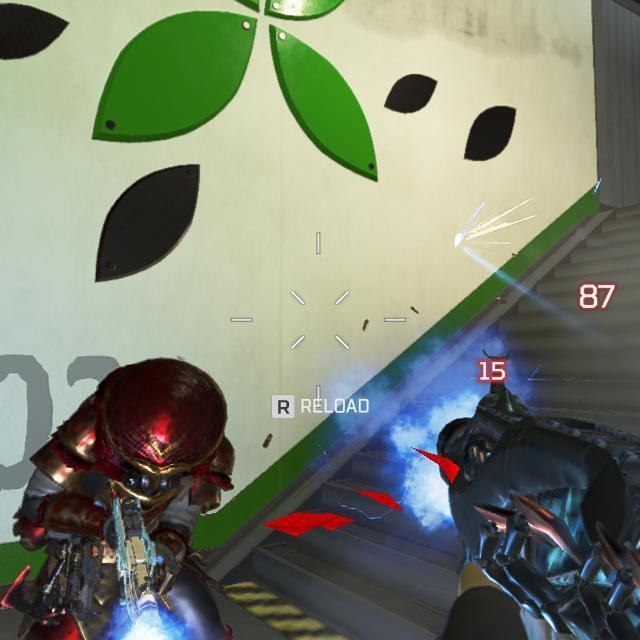avatar: (2, 357, 237, 640)
